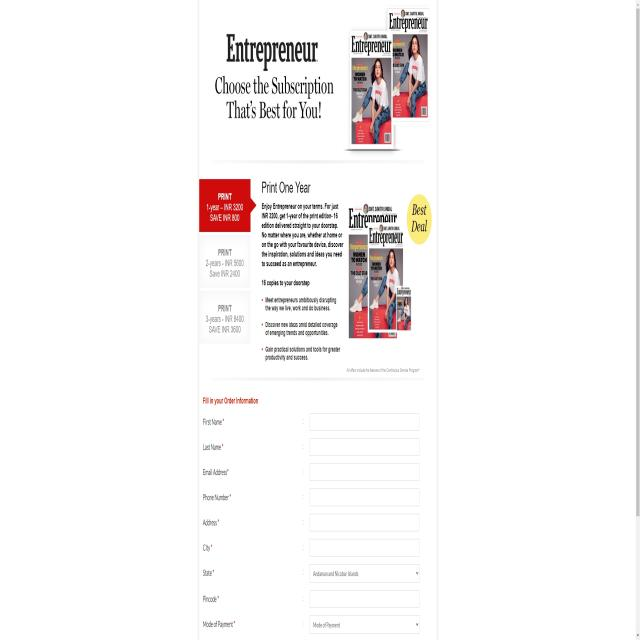menu-panel: (197, 172, 259, 353)
